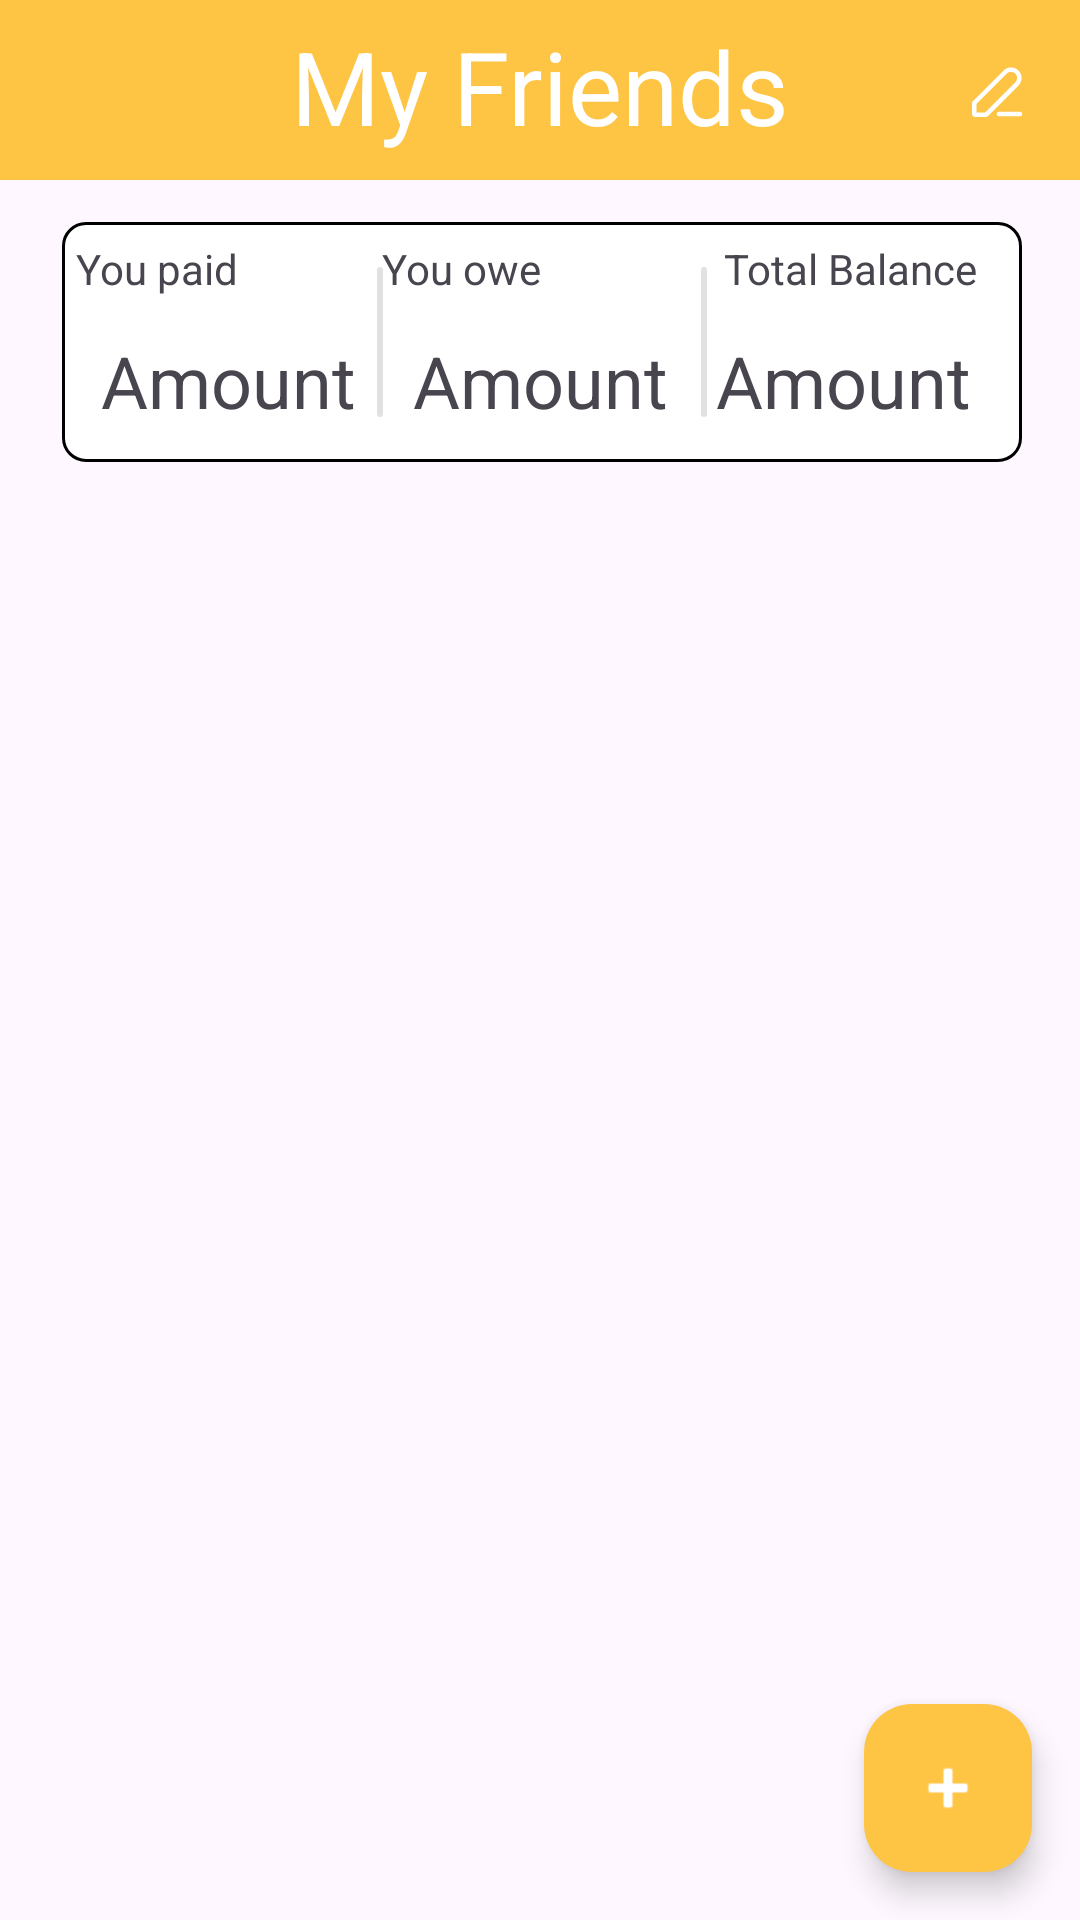

Named icons in this screenshot (1080*1920) and their centers, (x,y):
Add Friends: (948,1788)
Edit: (997,92)
